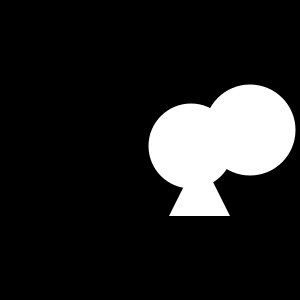rectangle: (204, 84, 296, 176), (149, 104, 234, 189)
triangle: (169, 155, 230, 216)
